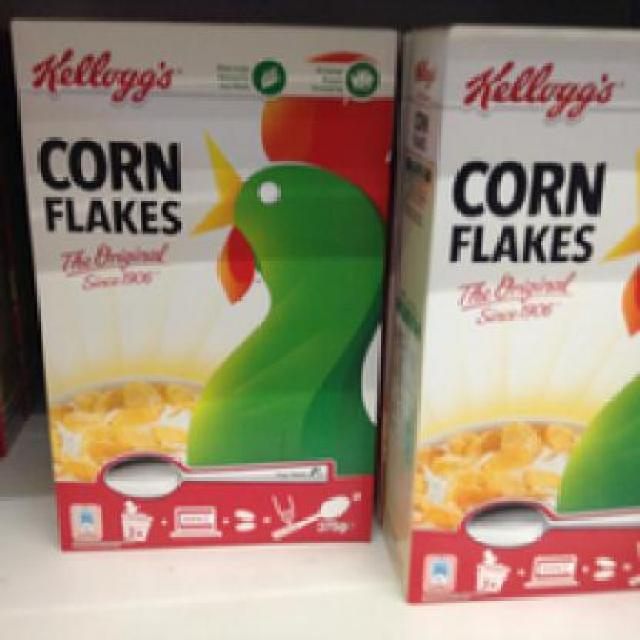Cereal: (6, 13, 394, 550), (397, 26, 637, 600)
